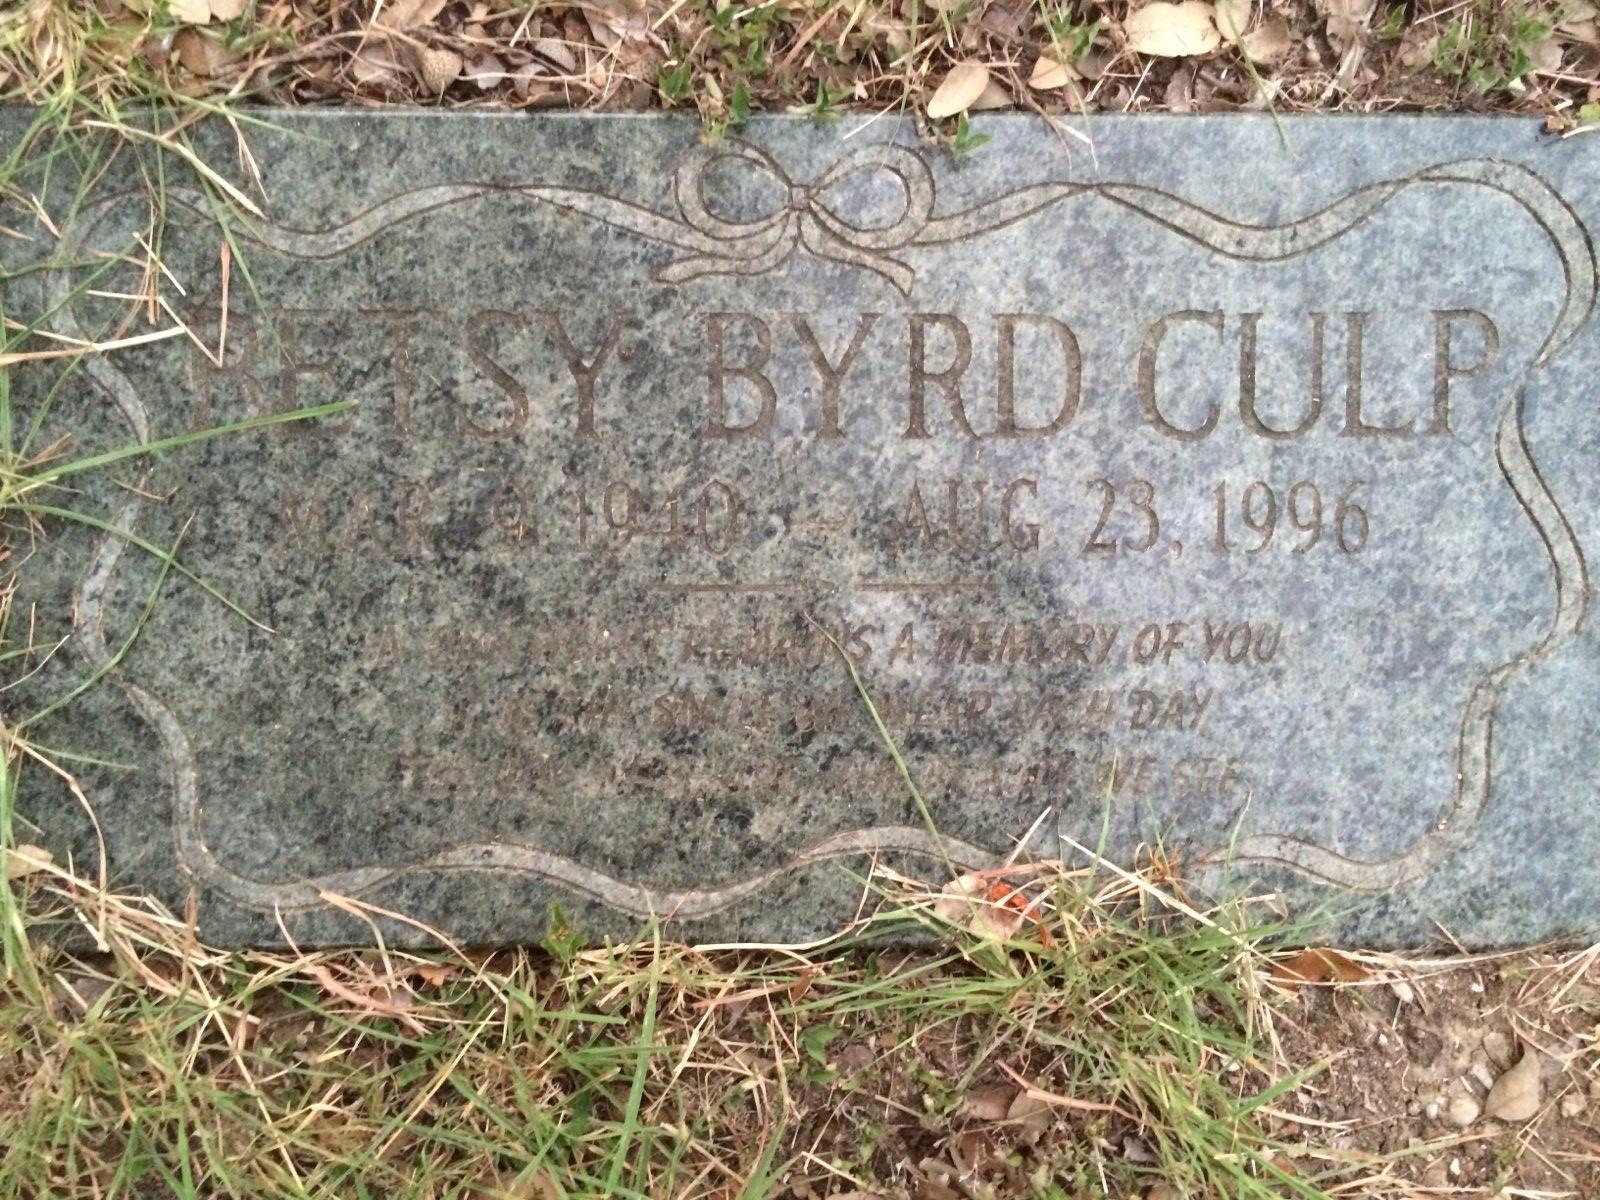flat: (5, 100, 1600, 958)
